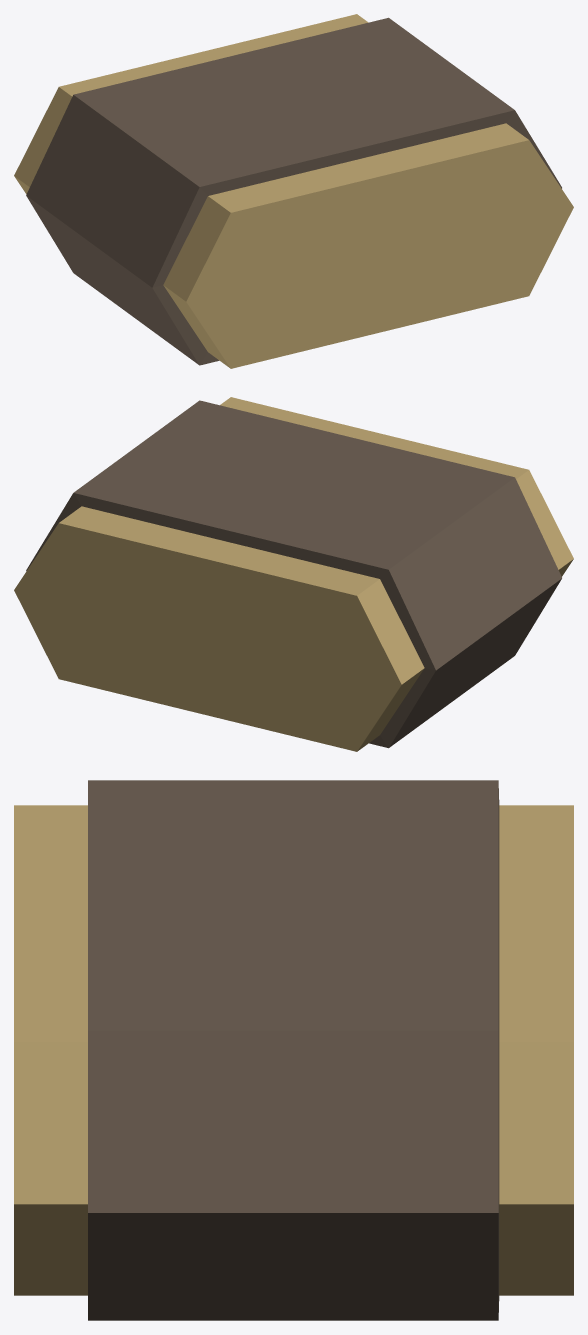
File: TankBase.fbx
The picture shows the model from 3 angles, top to bottom: view 1: azimuth 30°, elevation 25°; view 2: azimuth 150°, elevation 25°; view 3: azimuth 270°, elevation 25°; orthographic projection. The views are drawn at different scales.
Parts seen in each view (by area): view 1: Base; view 2: Base; view 3: Base.
Boxes of the visible parts, x1,y1,x2,y2 form: Base: [14, 14, 573, 368]; Base: [14, 397, 573, 751]; Base: [14, 780, 573, 1320].
Bounding box in the file's own units: 200 × 275 × 114.
